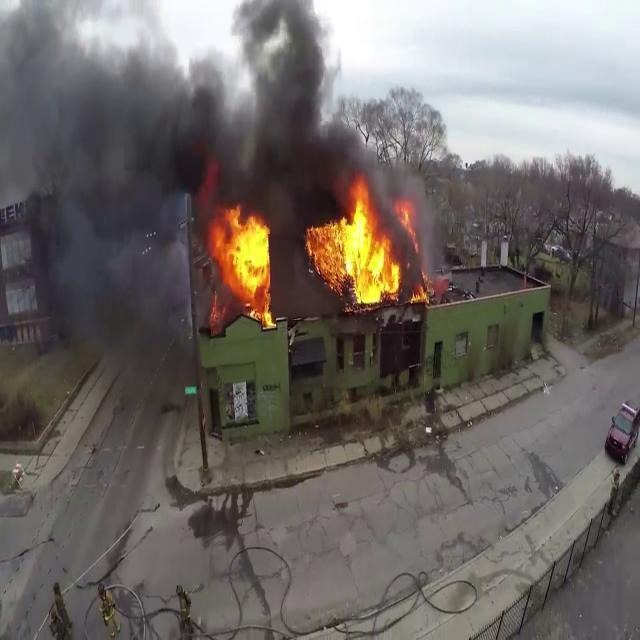Fire: (306, 179, 426, 309), (208, 201, 275, 323)
Smoke: (0, 0, 392, 222), (0, 0, 202, 349)
